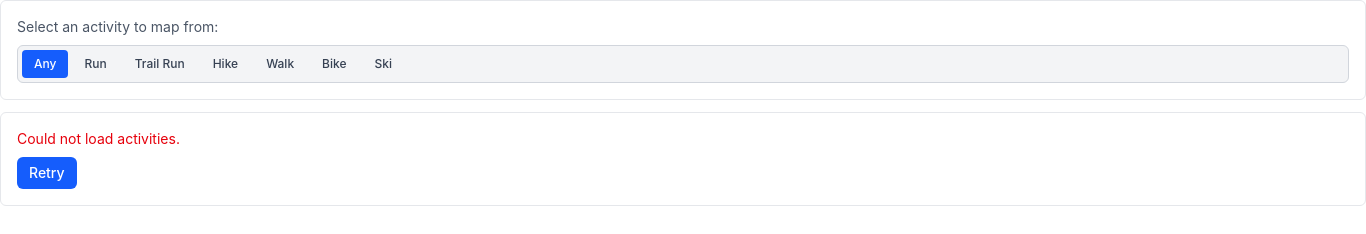
Test: ActivitySourceList › shows an error state with a retry that refetches
Expected: the message reads "Could not load activities.", [17,130,180,147]
Click the button "Retry": click(47, 173) [17,157,77,189]
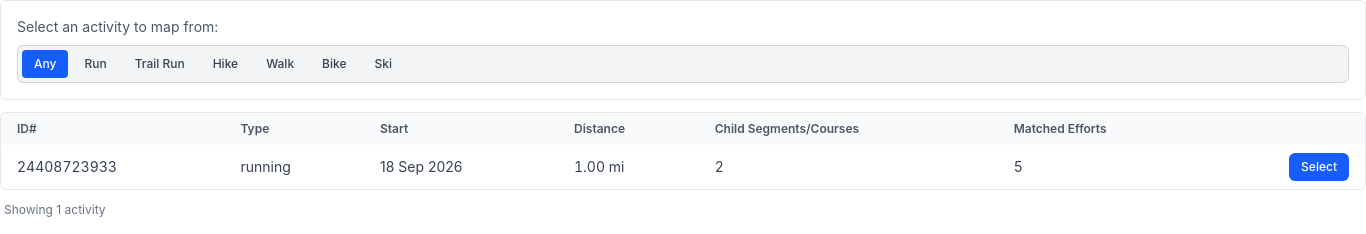
Expected: the text "running" is shown, [224,145,364,189]
